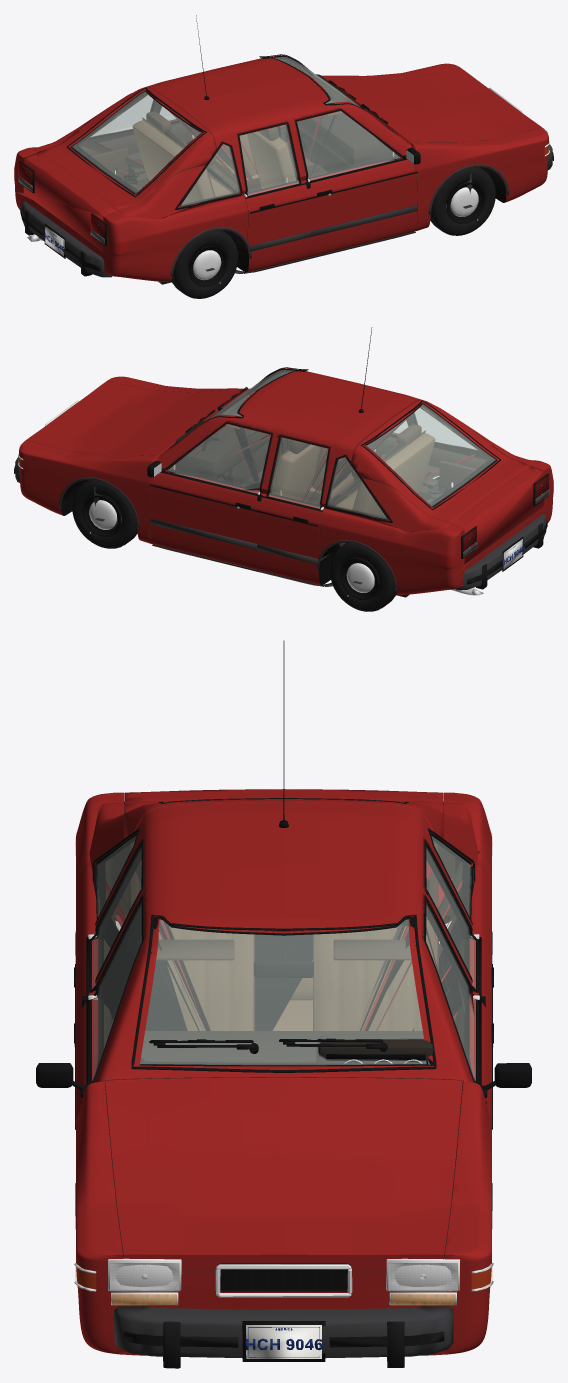
File: hatchback85_lod1.glb
The picture shows the model from 3 angles, top to bottom: view 1: azimuth 30°, elevation 25°; view 2: azimuth 150°, elevation 25°; view 3: azimuth 270°, elevation 25°; orthographic projection. The views are drawn at different scales.
Parts seen in each view (by area): view 1: Body, Interior, Hatch, Hood, Door_FR, Glass_Hatch, Door_RR, Glass_FR, Glass, Wheel_RR_mesh, Wheel_FR_mesh, Glass_RR (+7 smaller); view 2: Body, Interior, Hatch, Hood, Door_FL, Glass_Hatch, Door_RL, Glass_FL, Glass, Wheel_RL_mesh, Wheel_FL_mesh, Glass_RL (+7 smaller); view 3: Body, Hood, Glass, Interior, Ends, Bumper_F, Hatch, Lamps_Head, Trim, Door_FL, Door_FR, Glass_FR (+10 smaller).
Boxes of the visible parts, x1,y1,x2,y2 form: Body: [14, 55, 548, 281]; Interior: [91, 74, 392, 230]; Hatch: [23, 86, 216, 250]; Hood: [324, 68, 540, 170]; Door_FR: [294, 108, 417, 256]; Glass_Hatch: [67, 87, 206, 197]; Door_RR: [237, 121, 311, 272]; Glass_FR: [294, 109, 401, 181]; Glass: [90, 54, 398, 207]; Wheel_RR_mesh: [171, 230, 238, 298]; Wheel_FR_mesh: [430, 167, 495, 235]; Glass_RR: [237, 125, 301, 196]; Body: [19, 368, 553, 594]; Interior: [175, 401, 476, 546]; Hatch: [350, 399, 544, 563]; Hood: [26, 381, 246, 457]; Door_FL: [150, 421, 273, 569]; Glass_Hatch: [360, 400, 500, 510]; Door_RL: [256, 434, 330, 585]; Glass_FL: [167, 421, 273, 494]; Glass: [169, 367, 477, 520]; Wheel_RL_mesh: [329, 543, 396, 611]; Wheel_FL_mesh: [72, 480, 137, 548]; Glass_RL: [266, 437, 330, 509]; Body: [76, 792, 491, 1355]; Hood: [105, 1077, 462, 1272]; Glass: [96, 833, 471, 1072]; Interior: [129, 841, 438, 1078]; Ends: [74, 802, 493, 1361]; Bumper_F: [114, 1306, 453, 1368]; Hatch: [124, 789, 443, 847]; Lamps_Head: [110, 1264, 457, 1291]; Trim: [75, 640, 492, 1228]; Door_FL: [422, 894, 491, 1122]; Door_FR: [76, 894, 145, 1122]; Glass_FR: [92, 904, 141, 1080].
Bounding box in the file's own units: 4.33 × 2.14 × 1.99.
33 materials, 5 textured.
